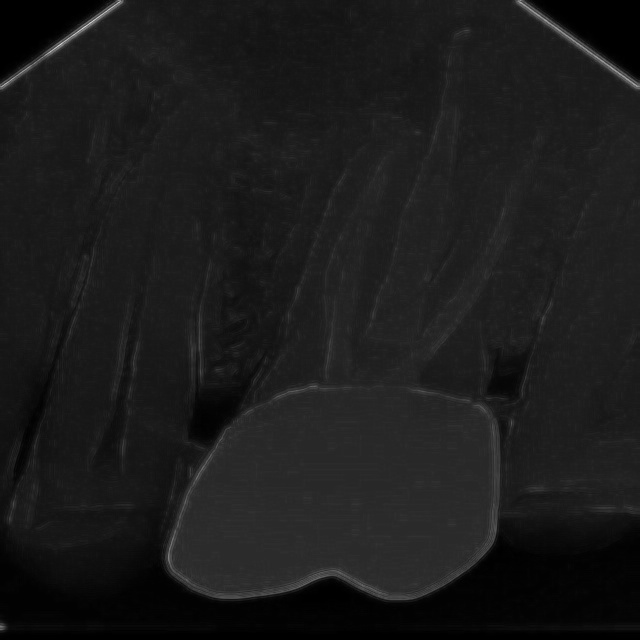Class 0- No endodontic treatment: (176, 23, 568, 615)
